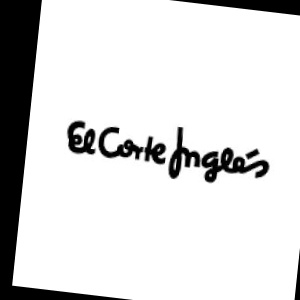corte_ingles: (254, 69, 300, 188)
